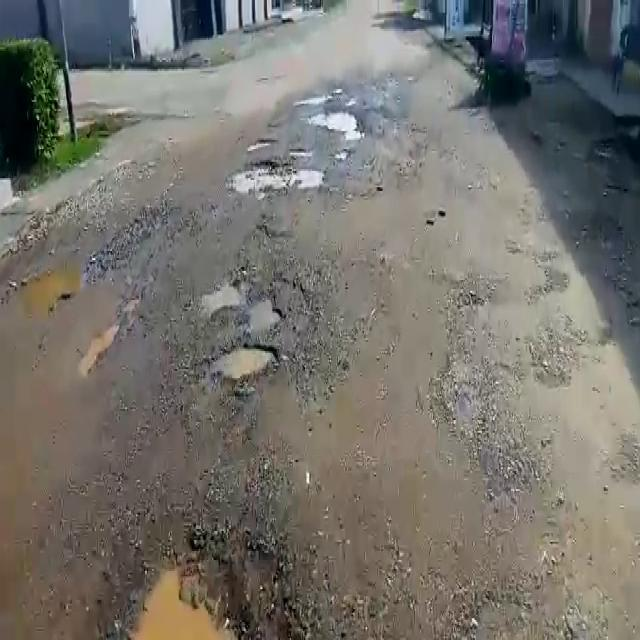pothole: (128, 570, 238, 640), (203, 283, 284, 330), (229, 155, 322, 194), (210, 339, 283, 385), (306, 105, 365, 134), (249, 133, 280, 147)
